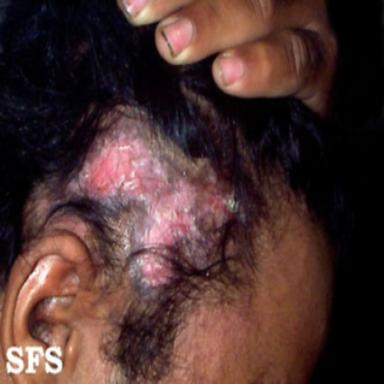Lupus-Erythematosus-Chronicus-Discoides: (70, 122, 248, 287)
